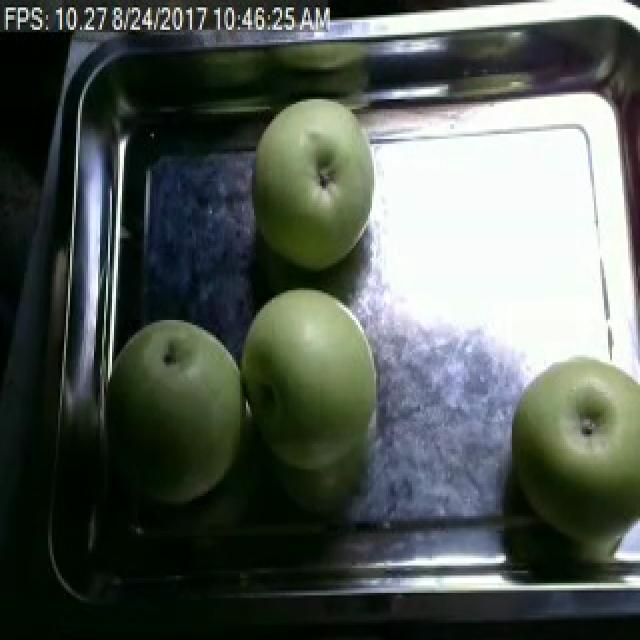50-_ripeness: (505, 338, 640, 598), (115, 298, 245, 498), (240, 298, 389, 468), (240, 103, 378, 270)
